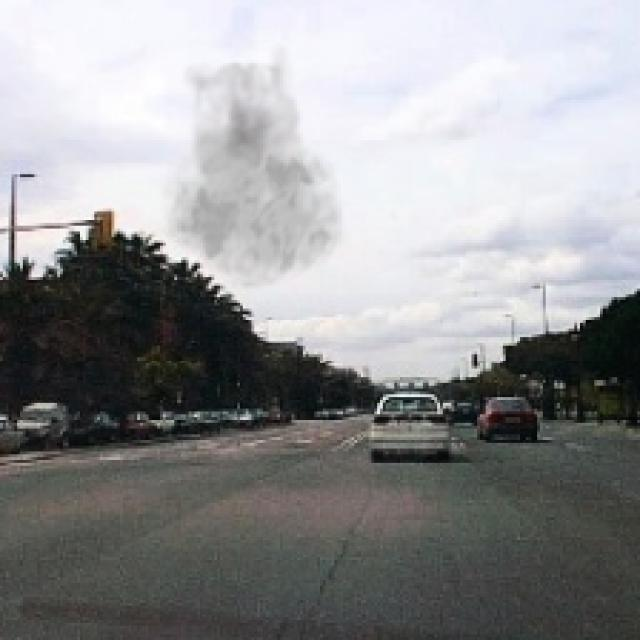Smoke: (148, 42, 352, 292)
